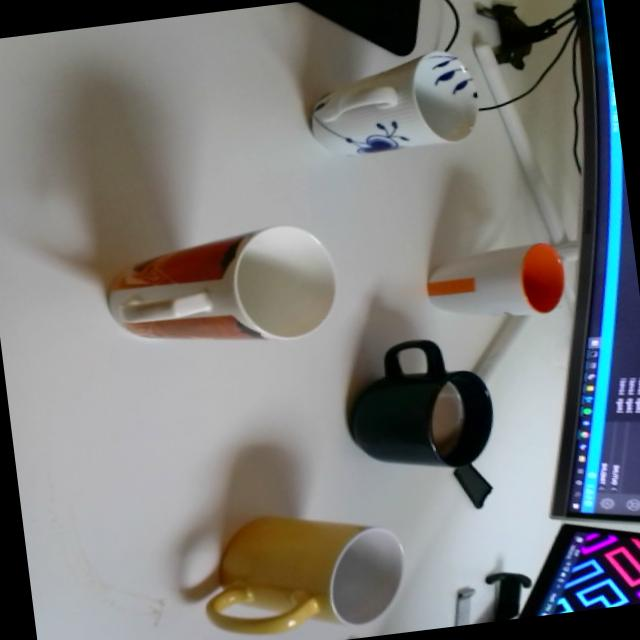Cocio Cup: (197, 497, 413, 640)
Cup: (339, 330, 500, 481)
Halloween cup: (98, 216, 345, 364)
Hand painted cup: (303, 44, 483, 160)
White Cup: (422, 238, 569, 330)
